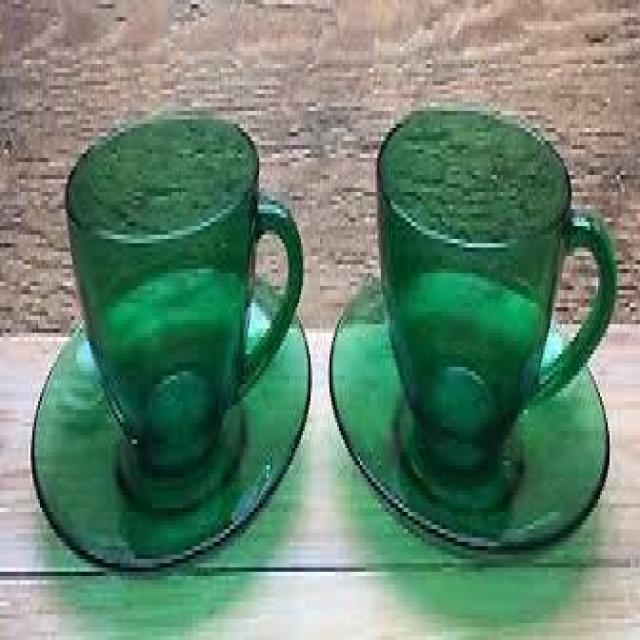Glass: (374, 102, 618, 462), (30, 273, 314, 575), (65, 110, 301, 468), (328, 270, 612, 553)
